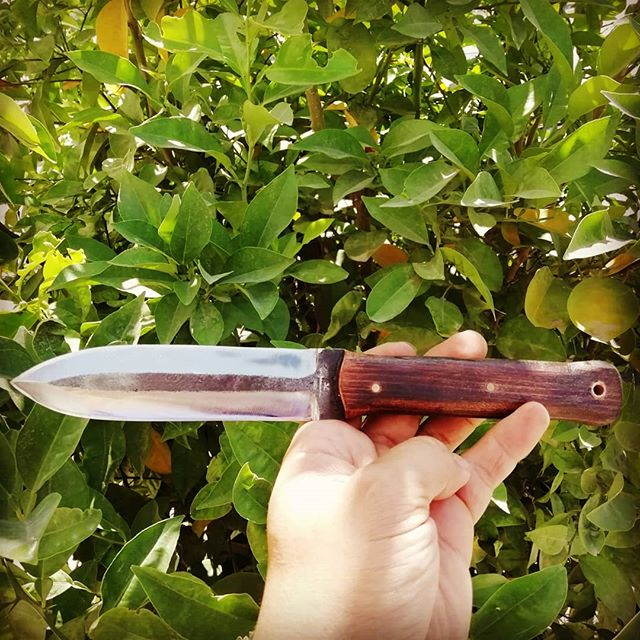knife: (9, 344, 624, 422)
